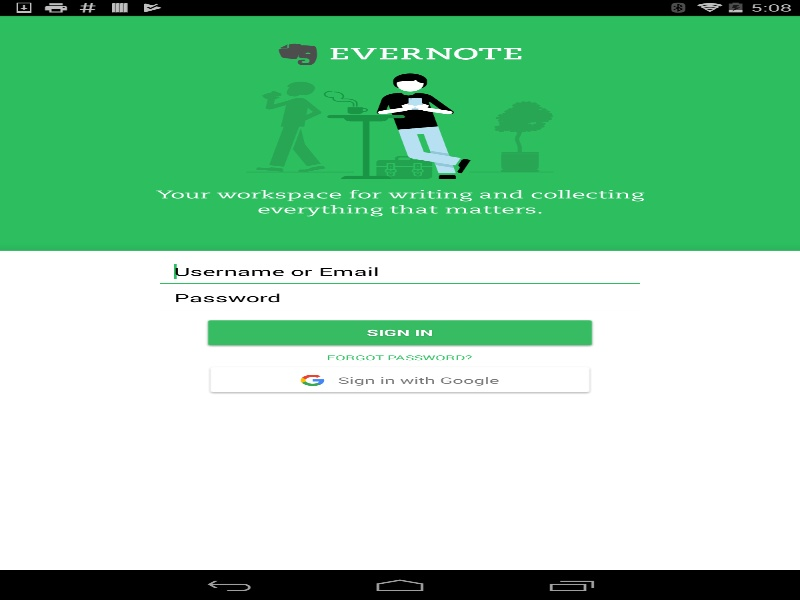Input: (160, 259, 640, 284), (160, 285, 640, 310)
